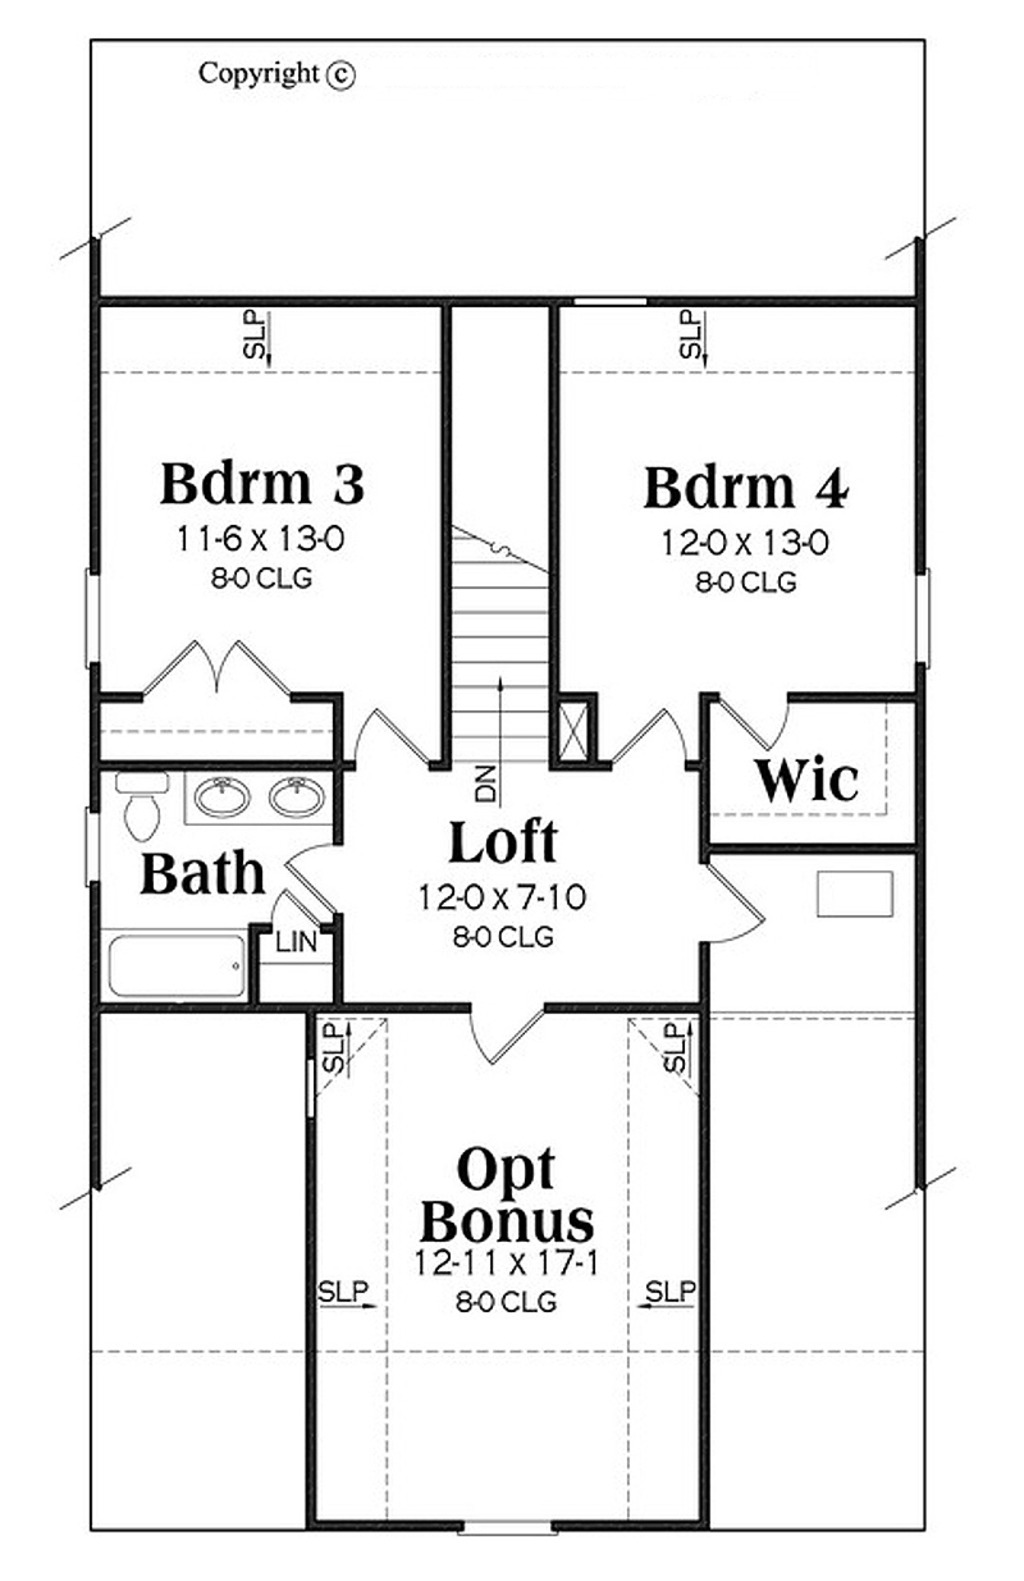door: (149, 618, 295, 703), (683, 855, 781, 952), (458, 984, 559, 1074), (281, 829, 364, 923), (695, 686, 801, 752), (332, 698, 437, 759), (604, 703, 693, 772), (251, 879, 339, 945)
large_sink: (93, 772, 183, 864)
small_sink: (173, 757, 344, 830)
stairs: (434, 292, 566, 808)
tub: (103, 923, 256, 1032)
window: (888, 552, 971, 689), (73, 572, 137, 689), (458, 1506, 571, 1537), (78, 814, 105, 891)
